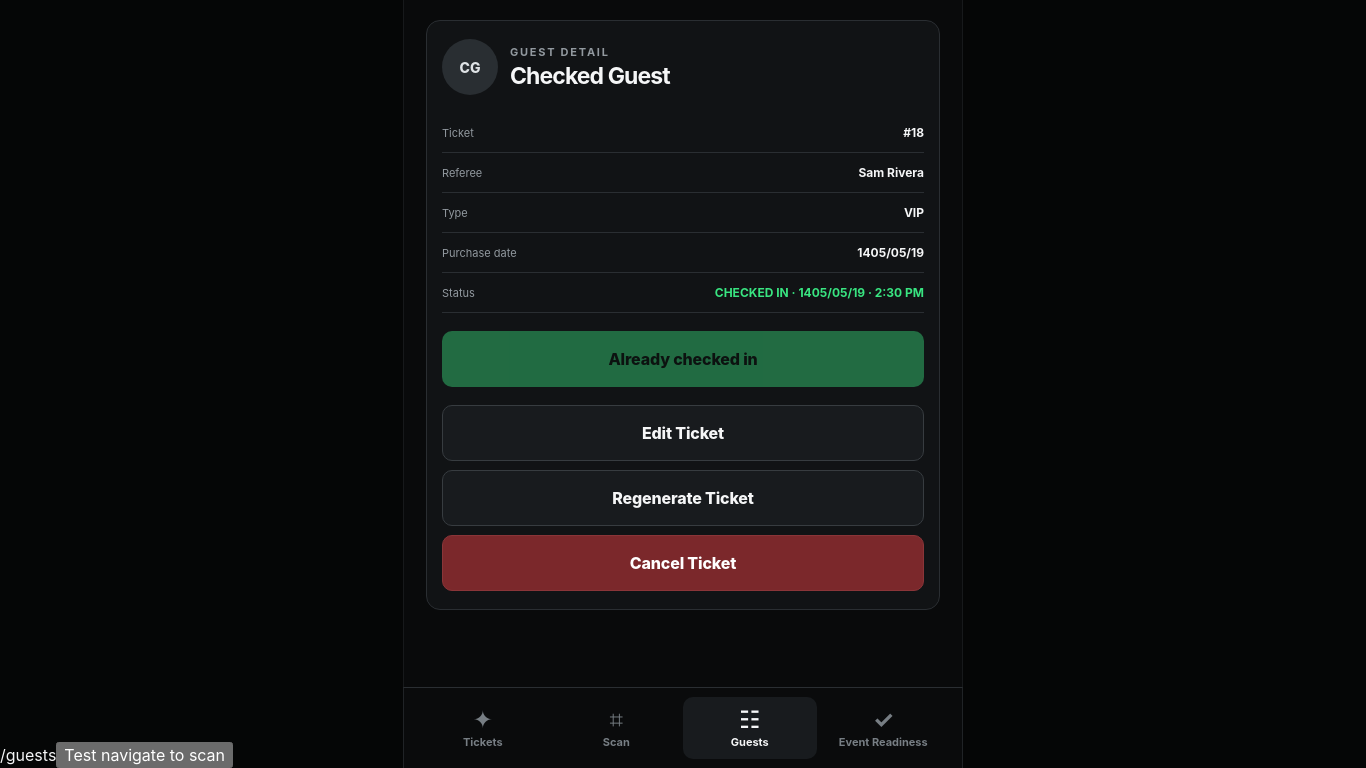
Test: ticket correction UI › locks ticket type after check-in while allowing name corrections
(page scrolled)
Click the button "Edit Ticket": (683, 434) [442,406,924,462]
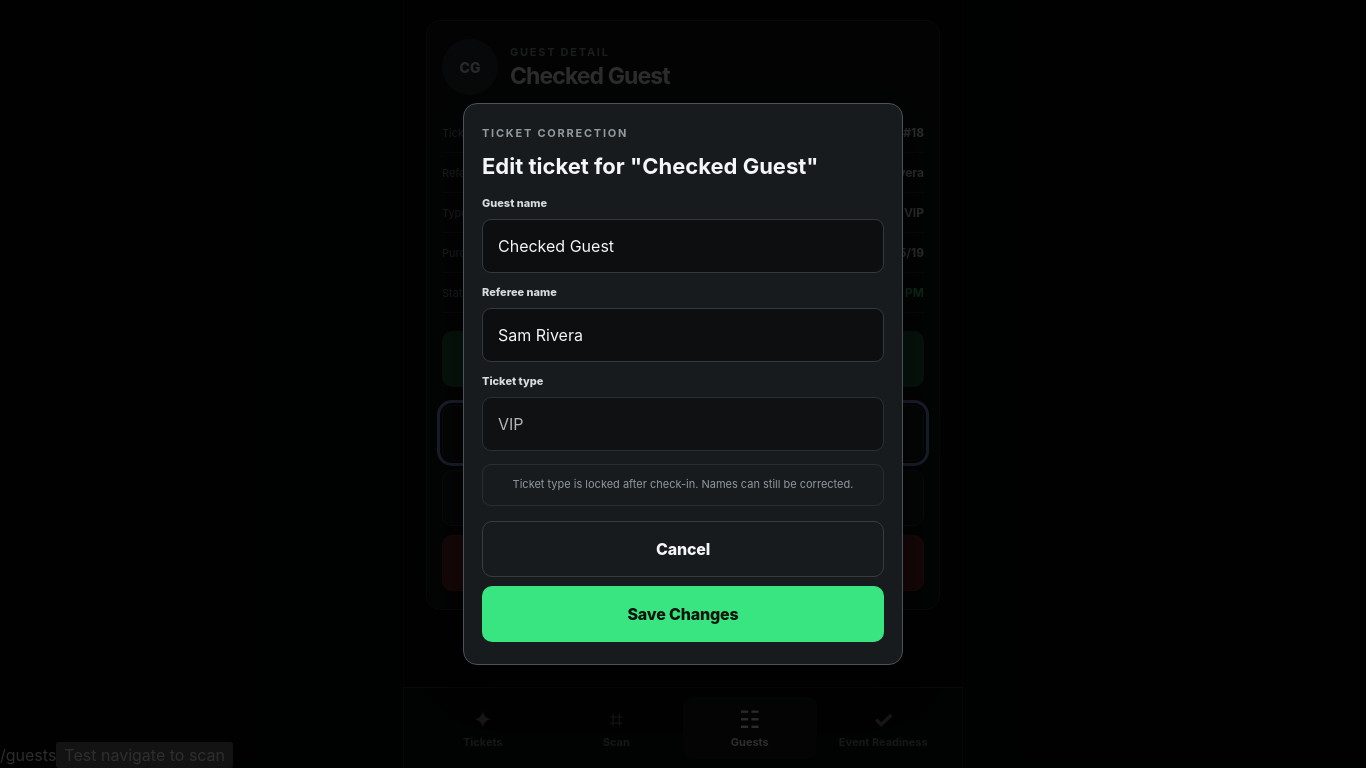
Result: the dropdown labelled "Ticket type" is disabled at [482,397,884,451]
Result: the text "type is locked after check-in" is shown at [513,477,853,491]
Result: the field labelled "Guest name" is enabled at [482,219,884,273]
